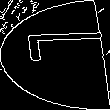L_E: (6, 37, 104, 73)
